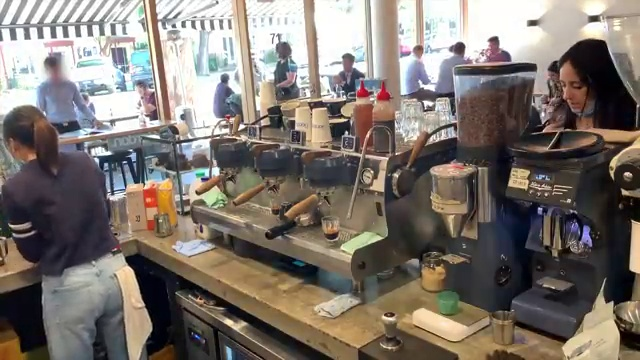employé: (304, 88, 346, 109), (101, 104, 139, 123), (536, 87, 554, 112)
employé actif: (101, 117, 197, 183)
machine: (196, 124, 432, 268), (449, 62, 519, 314), (518, 141, 591, 338)
